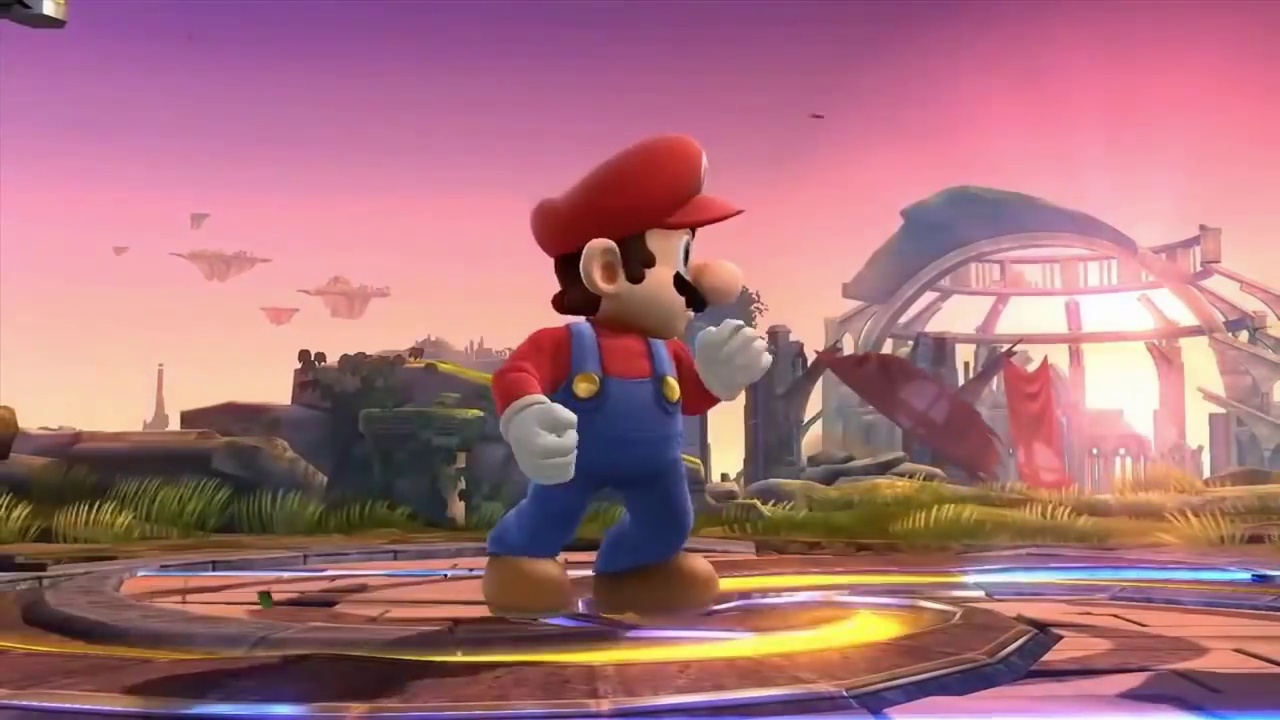Mario: (483, 136, 768, 612)
